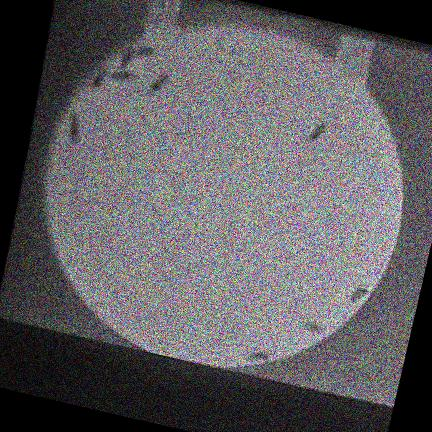fly: (148, 75, 169, 95), (306, 123, 326, 142), (90, 70, 106, 90), (68, 113, 79, 142), (119, 48, 133, 69), (110, 70, 134, 82), (131, 46, 153, 58), (302, 322, 323, 334), (248, 351, 270, 362), (349, 288, 365, 303)
